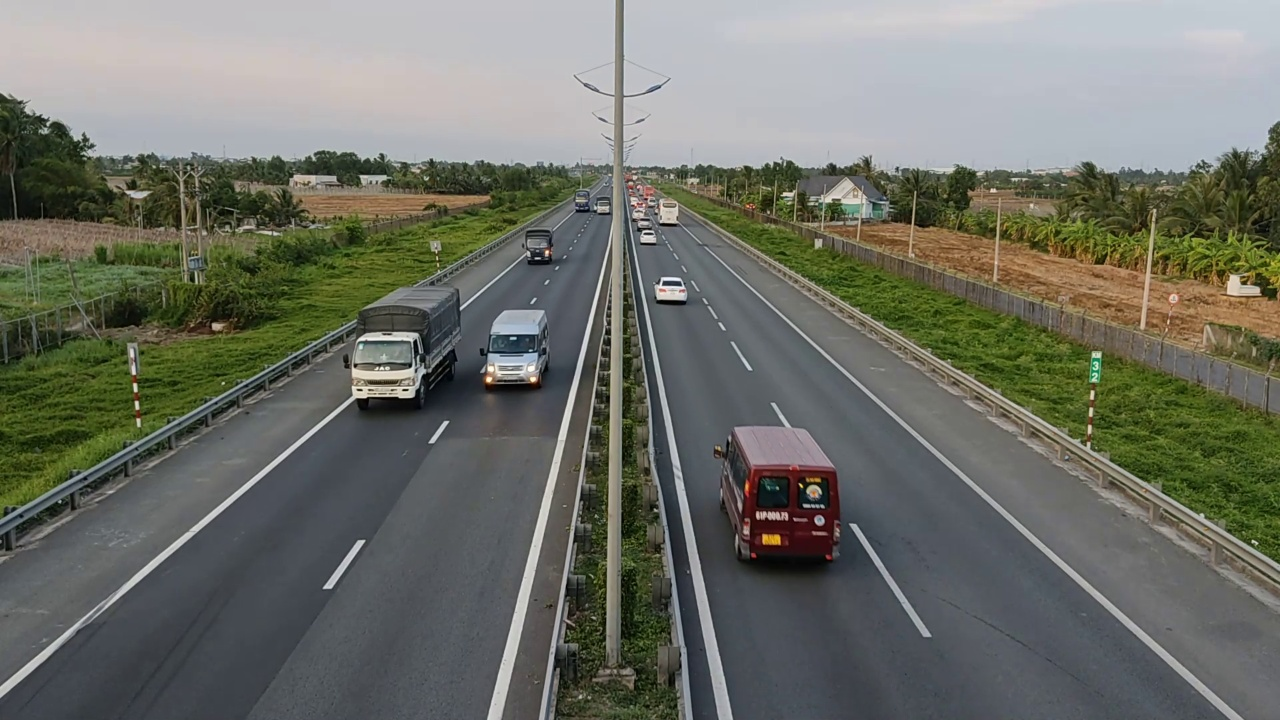car: (714, 421, 841, 563), (479, 307, 551, 388), (653, 275, 687, 303)
truck: (347, 283, 463, 410)
